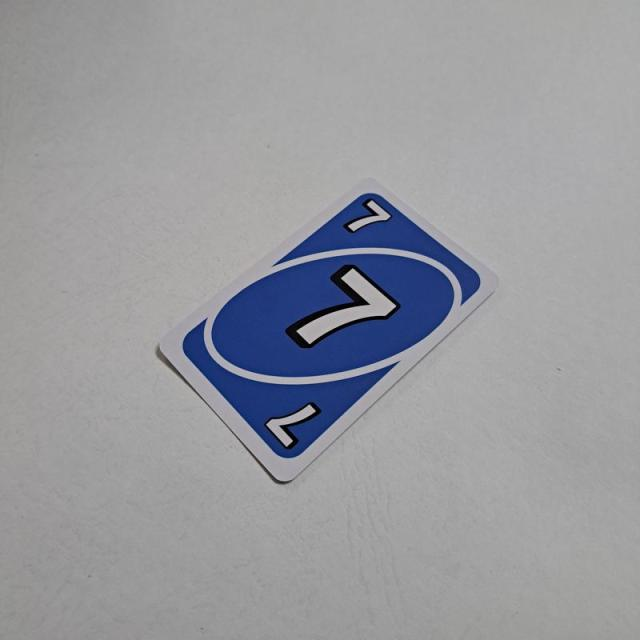Blue_Card: (178, 184, 486, 462)
Number_7: (336, 195, 398, 238)
